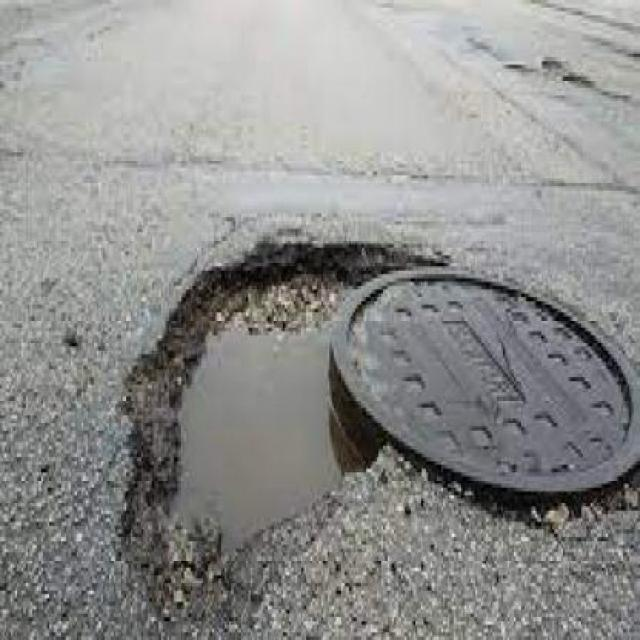Manhole: (315, 257, 640, 503)
Pothole: (118, 223, 330, 631), (300, 233, 452, 269), (276, 254, 360, 299), (563, 72, 597, 91), (543, 54, 564, 78), (502, 59, 534, 74), (629, 49, 640, 62)
